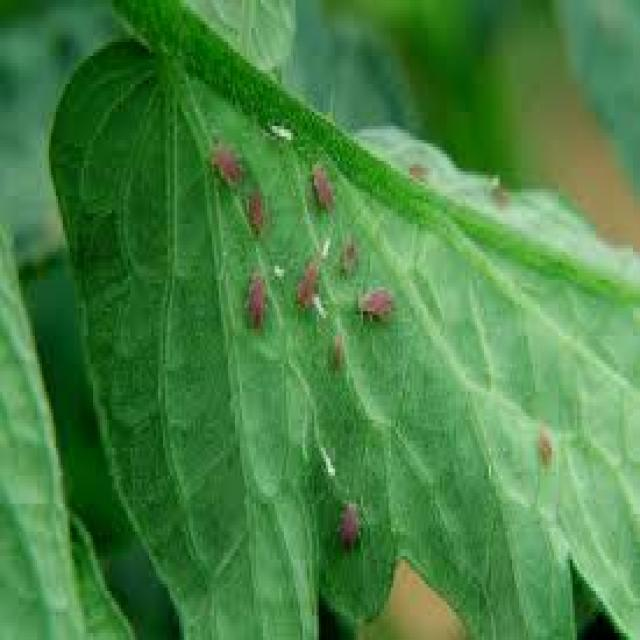Pestalotiopsis: (207, 116, 427, 372), (412, 145, 572, 267), (514, 369, 598, 509), (309, 496, 366, 552)
